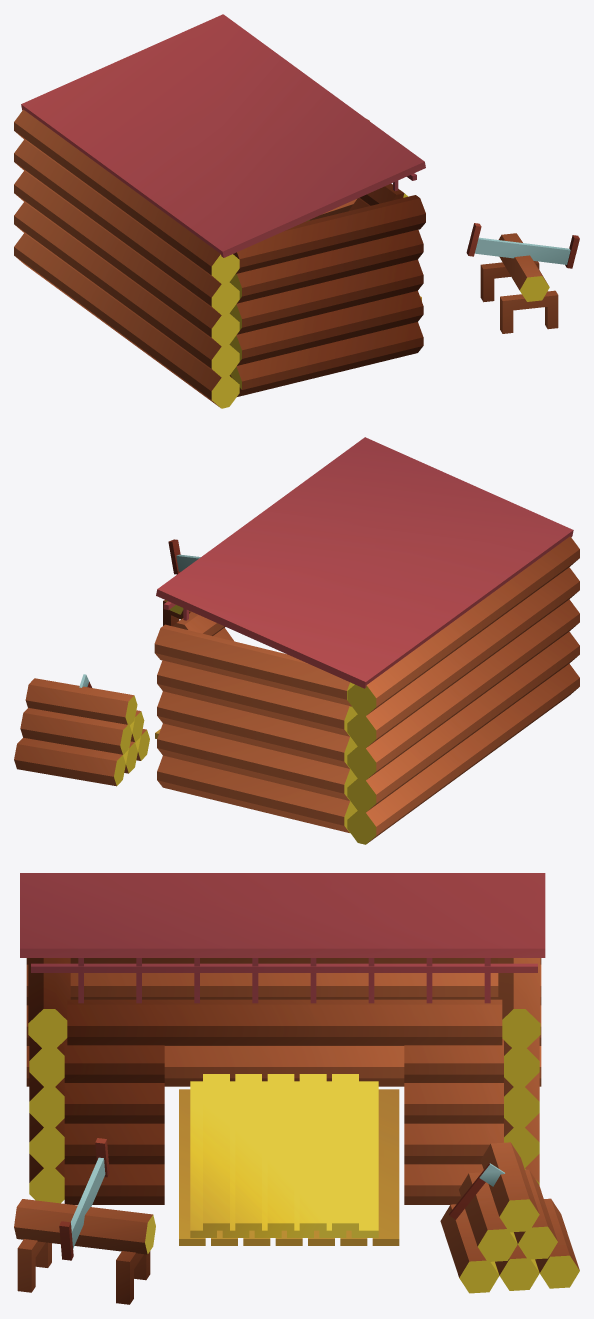
The model's file is lesopilka4JOINED_FINISHED.fbx.
The picture shows the model from 3 angles, top to bottom: view 1: azimuth 30°, elevation 25°; view 2: azimuth 150°, elevation 25°; view 3: azimuth 270°, elevation 25°; orthographic projection. The views are drawn at different scales.
Visible parts, largest first — view 1: Plane, Cube.008; view 2: Plane, Cylinder.001, Cube.008; view 3: Plane, Cylinder.001, Cube.008.
Part boxes in pixels (box(x1,y1,x2,y2)): Plane: box(14, 14, 425, 408); Cube.008: box(466, 223, 579, 333); Plane: box(154, 437, 579, 844); Cylinder.001: box(14, 674, 149, 786); Cube.008: box(163, 539, 200, 626); Plane: box(20, 873, 545, 1245); Cylinder.001: box(440, 1142, 579, 1293); Cube.008: box(14, 1138, 155, 1304).
Size of the model in its own units: 628 by 313 by 617.
